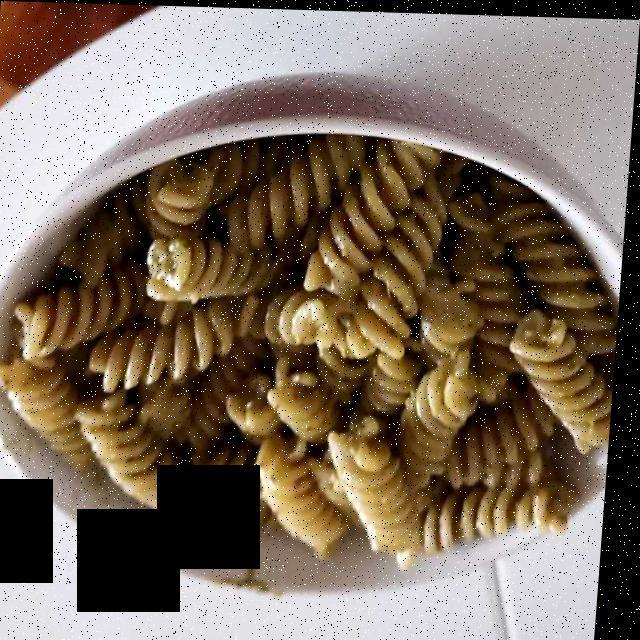pasta: (15, 133, 607, 555)
